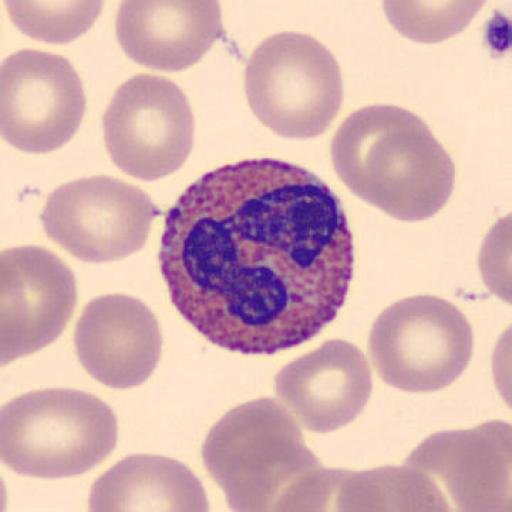RBC: (330, 109, 456, 224), (200, 394, 308, 512), (242, 28, 346, 142), (1, 385, 121, 482), (38, 172, 160, 265), (366, 293, 476, 395), (100, 70, 197, 182), (331, 101, 437, 199), (397, 423, 512, 512), (271, 336, 373, 436), (361, 126, 458, 224), (2, 46, 88, 156), (72, 291, 164, 392), (2, 244, 79, 364), (114, 1, 224, 74), (86, 451, 211, 512), (442, 419, 512, 512), (333, 464, 459, 512), (268, 464, 379, 512), (379, 0, 491, 45), (4, 0, 108, 45), (476, 207, 512, 309), (267, 467, 337, 512), (490, 317, 512, 420), (270, 478, 334, 512)
WBC: (158, 156, 357, 356)
